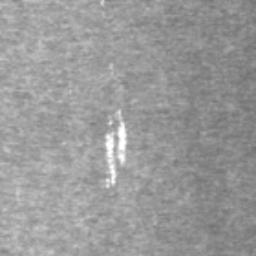White rust: (106, 135, 116, 184), (118, 122, 126, 164)
